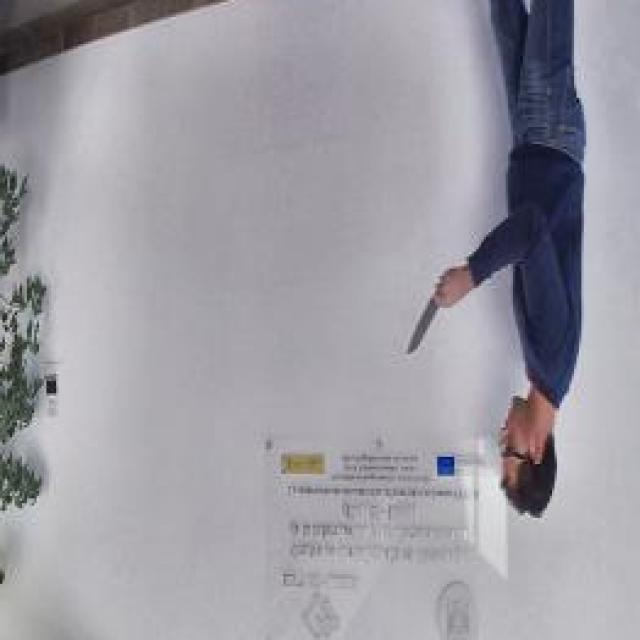knife: (403, 281, 450, 364)
